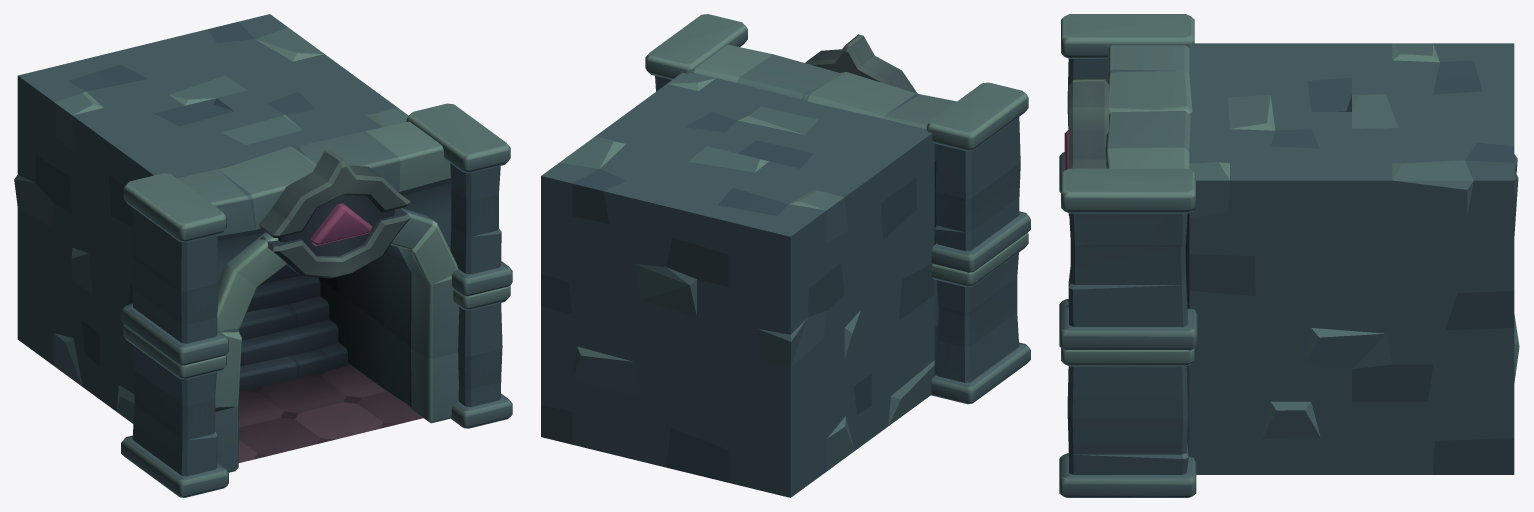
Rendered from doorway_level_to_level_up.fbx.
3 renders of one model, left to right at view 1: azimuth 30°, elevation 25°; view 2: azimuth 150°, elevation 25°; view 3: azimuth 270°, elevation 25°, orthographic. The views are drawn at different scales.
Visible parts, largest first — view 1: doorway_level_to_level_up; view 2: doorway_level_to_level_up; view 3: doorway_level_to_level_up.
Part boxes in pixels (bbox=[...]): doorway_level_to_level_up: bbox=[14, 14, 512, 497]; doorway_level_to_level_up: bbox=[541, 14, 1030, 497]; doorway_level_to_level_up: bbox=[1059, 14, 1519, 497].
Size of the model in its own units: 530 by 446 by 566.
